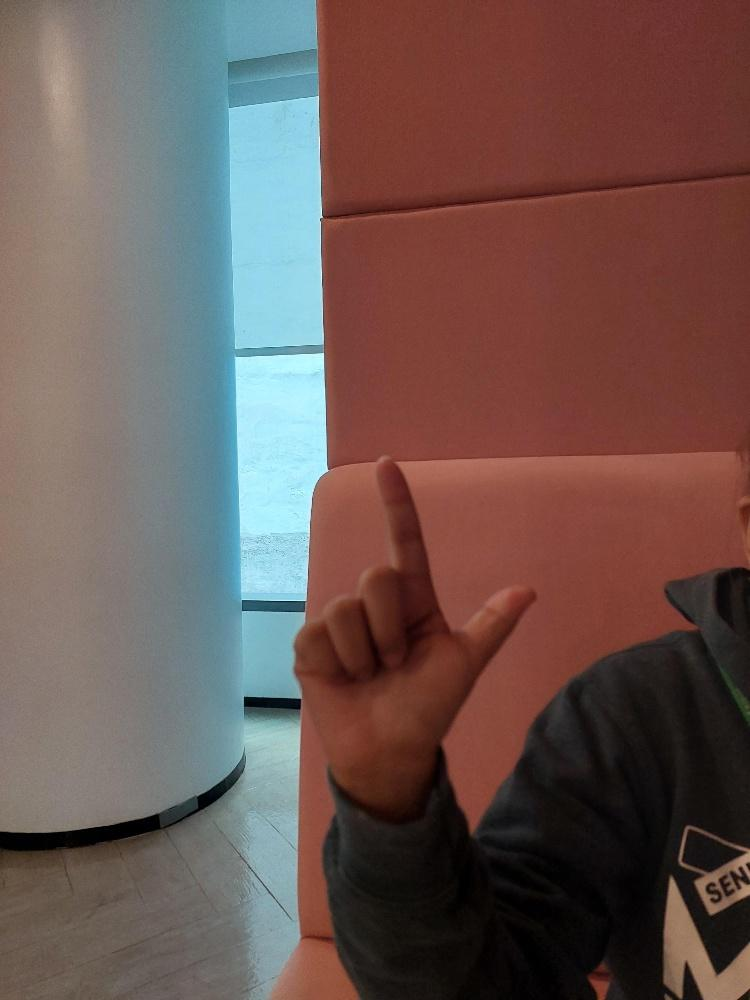l: (287, 447, 541, 795)
